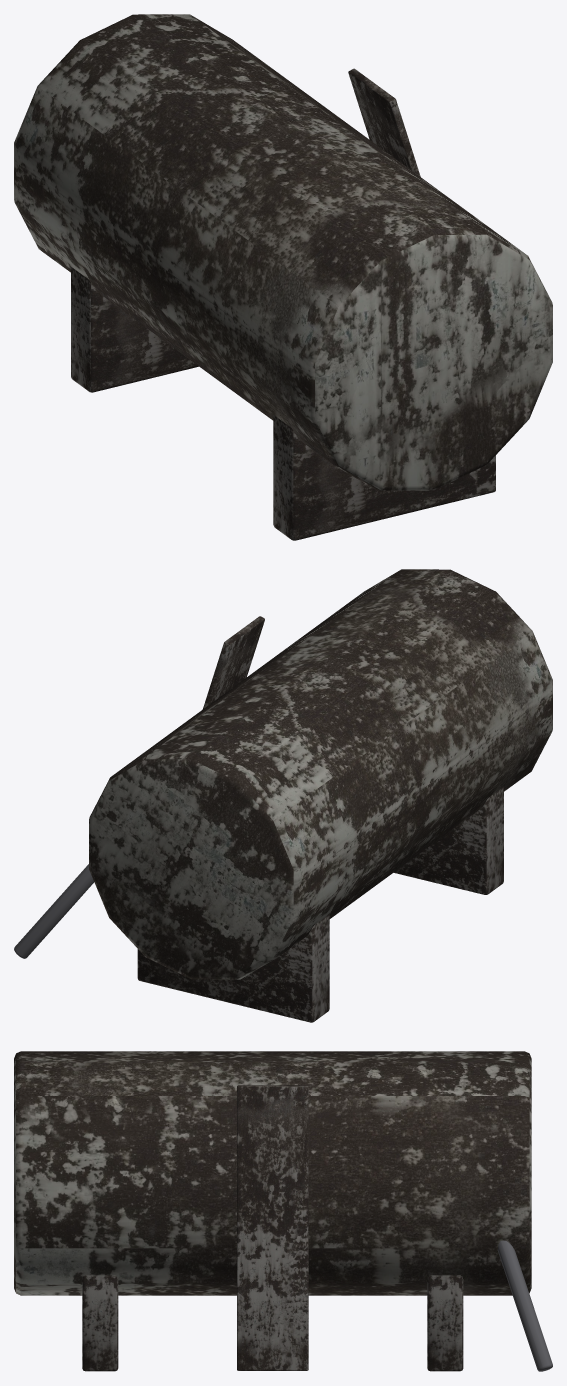
File: prop_fuel_tank.glb
The picture shows the model from 3 angles, top to bottom: view 1: azimuth 30°, elevation 25°; view 2: azimuth 150°, elevation 25°; view 3: azimuth 270°, elevation 25°; orthographic projection. The views are drawn at different scales.
Visible parts, largest first — view 1: Tank, Saddle, Saddle.001, Ladder; view 2: Tank, Saddle.001, Saddle, Ladder, Pipe; view 3: Tank, Ladder, Saddle.001, Saddle, Pipe.
Boxes of the visible parts, bbox=[...] form: Tank: bbox=[14, 14, 552, 490]; Saddle: bbox=[273, 415, 495, 540]; Saddle.001: bbox=[71, 267, 198, 392]; Ladder: bbox=[348, 68, 420, 176]; Tank: bbox=[89, 569, 552, 979]; Saddle.001: bbox=[137, 914, 329, 1022]; Saddle: bbox=[393, 787, 503, 894]; Ladder: bbox=[202, 616, 264, 709]; Pipe: bbox=[14, 864, 93, 958]; Tank: bbox=[14, 1051, 531, 1295]; Ladder: bbox=[237, 1085, 308, 1370]; Saddle.001: bbox=[427, 1275, 463, 1371]; Saddle: bbox=[82, 1275, 118, 1371]; Pipe: bbox=[497, 1240, 552, 1371].
Size of the model in its own units: 2.17 by 2.16 by 3.75.
3 materials, 2 textured.
